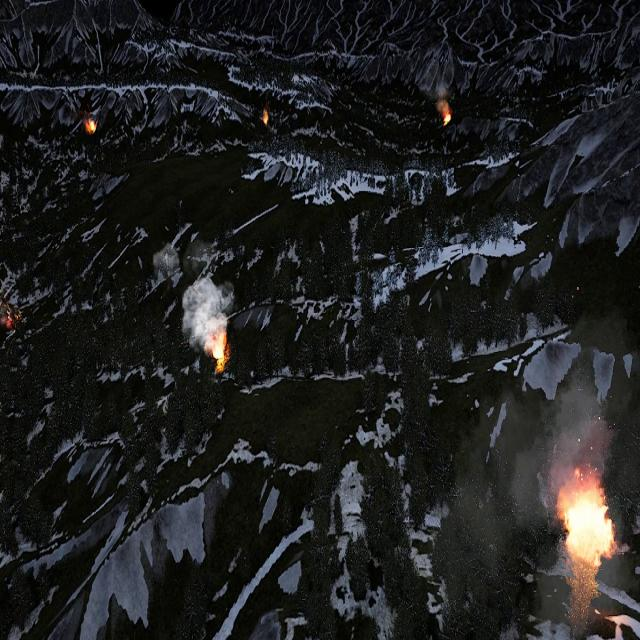fire: (561, 479, 615, 566), (208, 332, 228, 370), (85, 118, 99, 132), (444, 107, 453, 124), (263, 109, 269, 125)
smoke: (436, 324, 640, 640), (151, 241, 234, 348), (418, 76, 451, 106), (0, 312, 17, 339)
